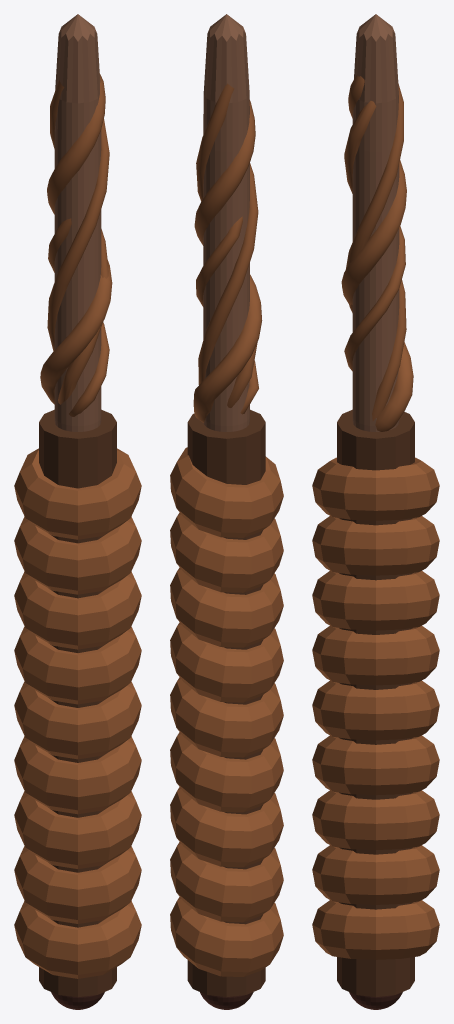
The model's file is Wand 473.glb.
3 renders of one model, left to right at view 1: azimuth 90°, elevation 25°; view 2: azimuth 150°, elevation 25°; view 3: azimuth 270°, elevation 25°, orthographic.
Parts seen in each view (by area): view 1: GeneratedWand; view 2: GeneratedWand; view 3: GeneratedWand.
Boxes of the visible parts, left/top/right/bottom form: GeneratedWand: left=14, top=14, right=141, bottom=1009; GeneratedWand: left=170, top=14, right=283, bottom=1009; GeneratedWand: left=312, top=14, right=439, bottom=1009.
Bounding box in the file's own units: 0.0497 × 0.4993 × 0.0581.
